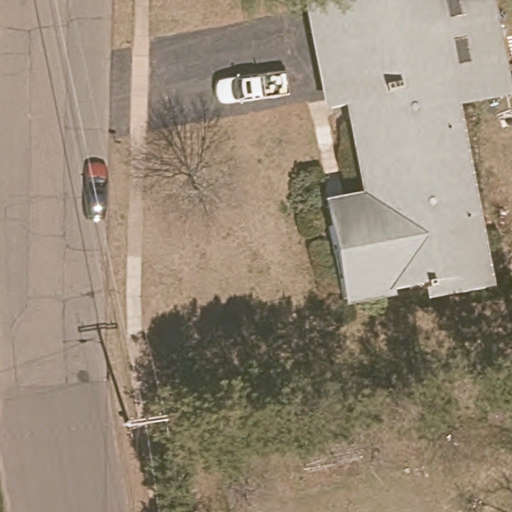DT: (122, 388, 170, 430)
